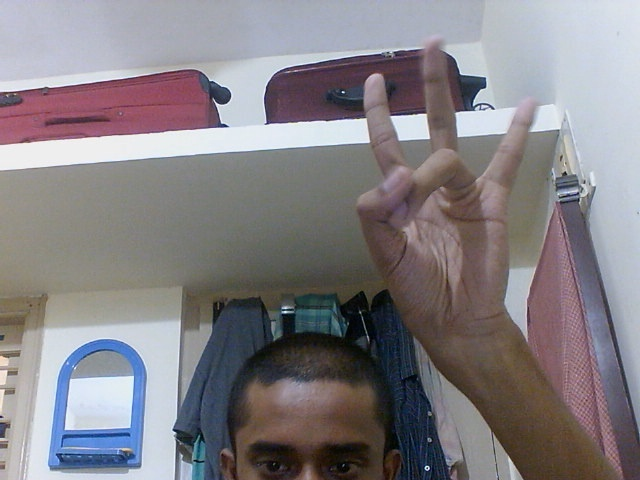hand: (355, 30, 538, 354)
